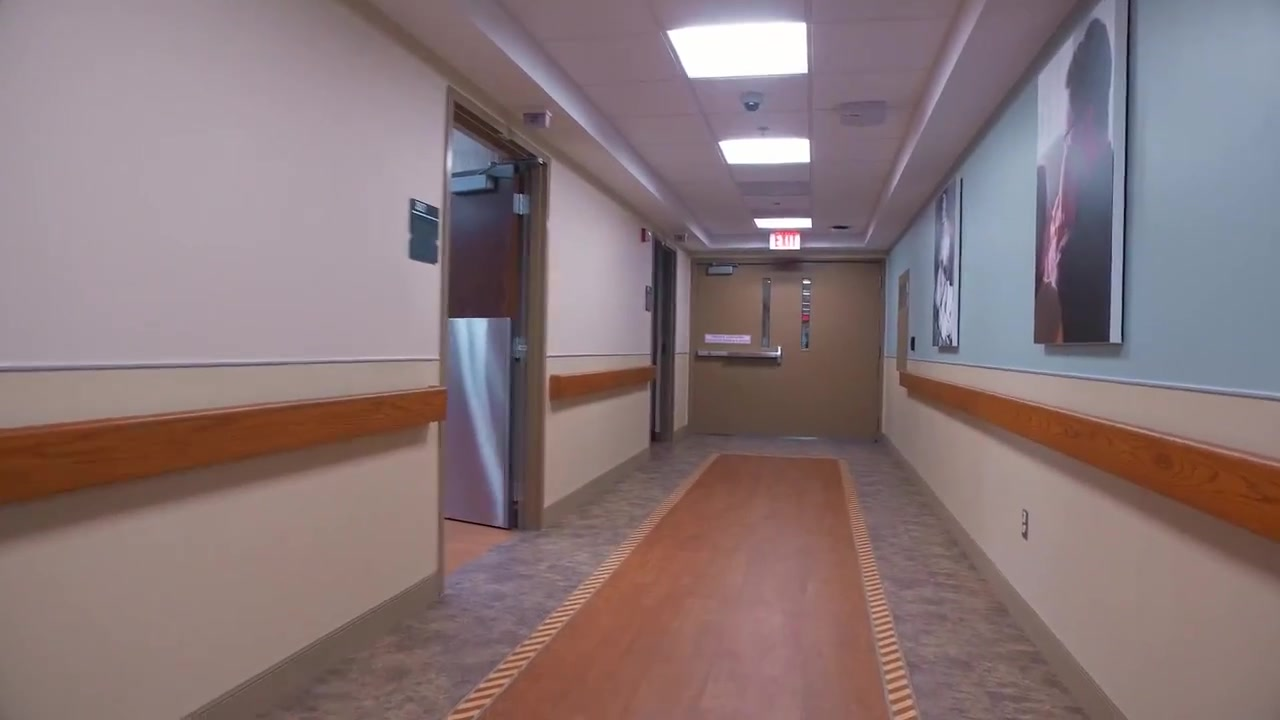hallway_assist_bar: (898, 369, 1280, 549), (1, 385, 460, 507), (548, 365, 659, 404)
push_latch: (697, 343, 785, 369)
